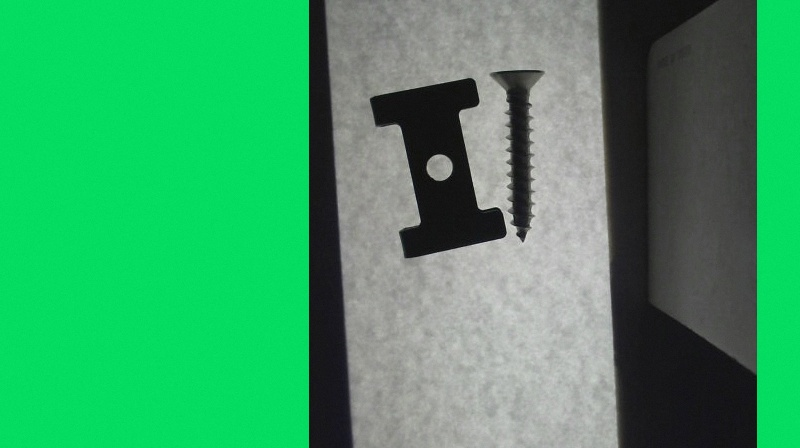O002: (370, 73, 507, 259)
S001: (487, 65, 545, 242)
